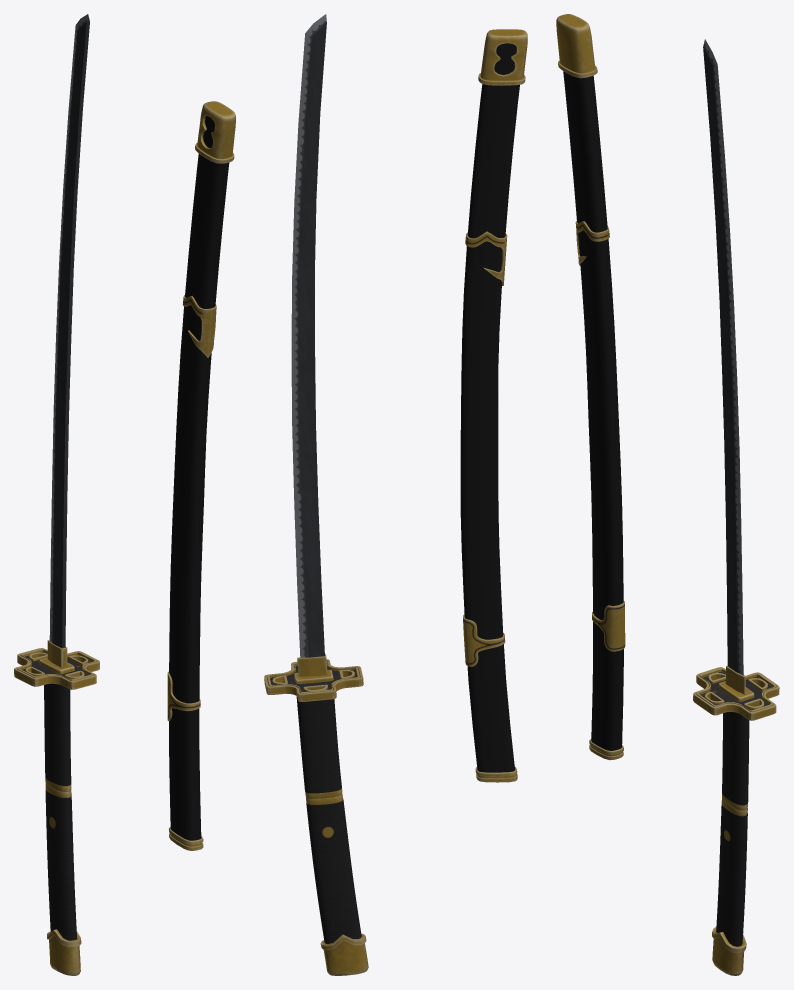
File: shusui.glb
3 views of the same model, side by side, from view 1: azimuth 90°, elevation 25°; view 2: azimuth 150°, elevation 25°; view 3: azimuth 270°, elevation 25° (orthographic).
Visible parts, largest first — view 1: Yubashiri_sheeth, Yubashiri1; view 2: Yubashiri_sheeth, Yubashiri1; view 3: Yubashiri_sheeth, Yubashiri1.
Boxes of the visible parts, box(x1,y1,x2,y2) form: Yubashiri_sheeth: box(167, 101, 235, 850); Yubashiri1: box(14, 14, 99, 975); Yubashiri_sheeth: box(460, 29, 527, 782); Yubashiri1: box(264, 14, 368, 975); Yubashiri_sheeth: box(556, 14, 625, 760); Yubashiri1: box(693, 39, 779, 975).
Size of the model in its own units: 0.0258 by 0.1317 by 0.0281.
1 material, 1 textured.
